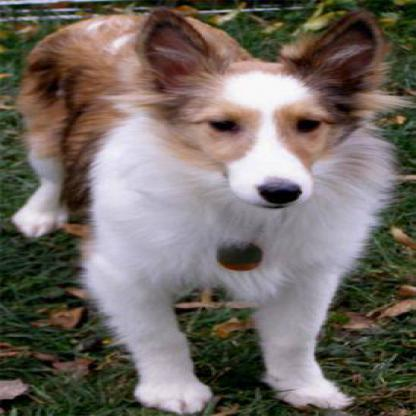dog: (87, 20, 391, 256)
